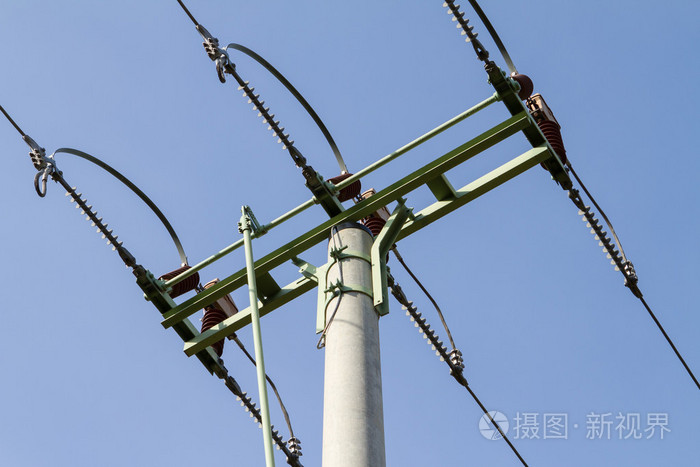insulator: (237, 81, 297, 149), (65, 187, 121, 249), (577, 207, 626, 273), (401, 299, 452, 362), (237, 396, 286, 453), (439, 1, 480, 42)
